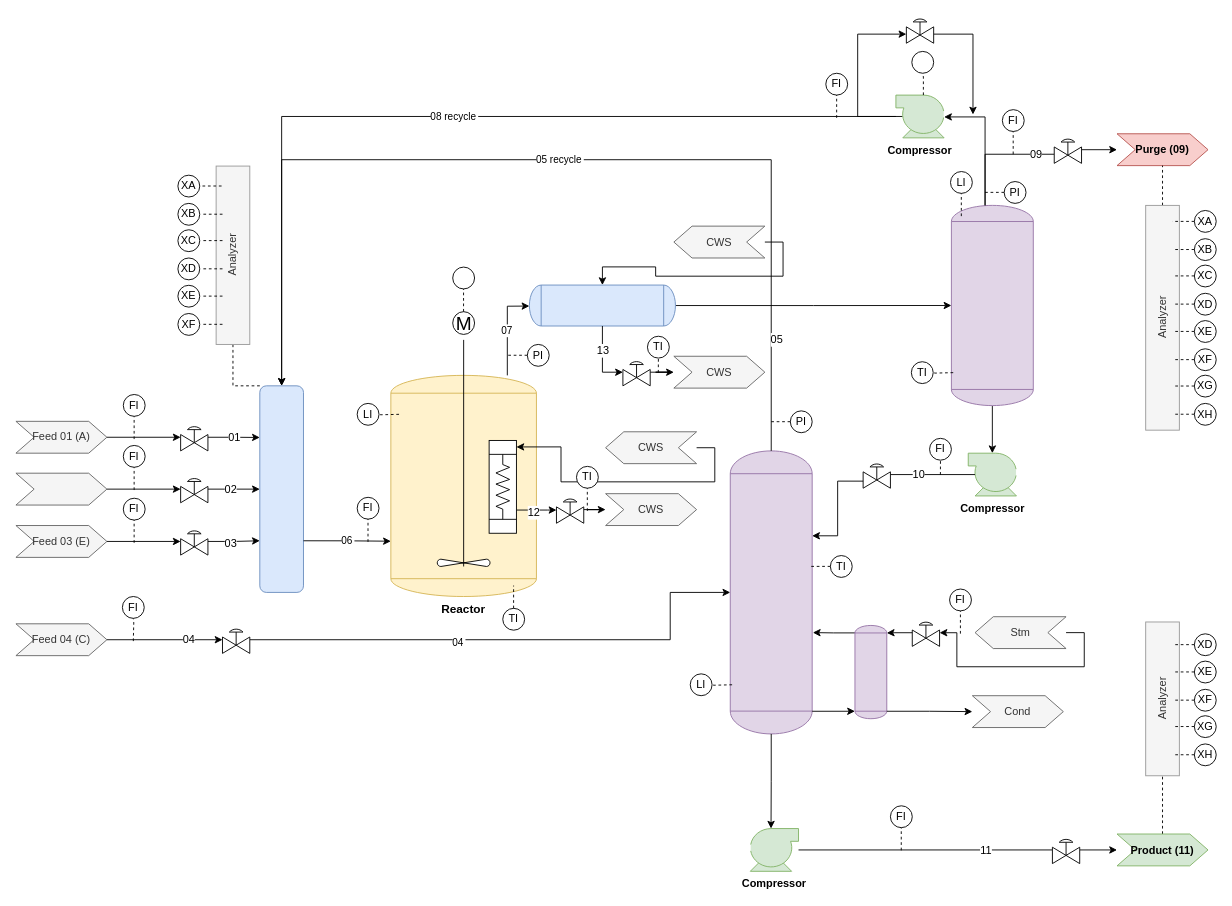
The diagram is 1232 pixels wide and 906 high, and some of its shapes have lost their labels. The shapes that lost their labels are listed below. From the top down, each one's centre as x and y in pixels, then its label:
the point at 922,62: JI
the point at 463,277: SC
the point at 602,305: Condenser
the point at 991,305: Separator Vap/Liq
the point at 61,488: Feed 02 (D)
the point at 281,488: Feed Mixer
the point at 770,592: Stripper
the point at 870,672: boiler
